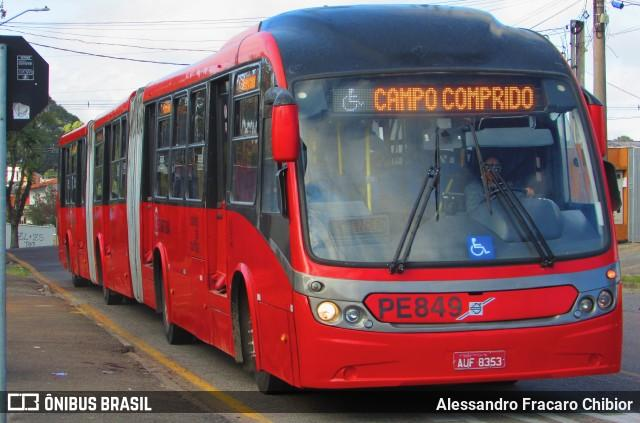CAMPO COMPRIDO: (369, 84, 536, 113)
